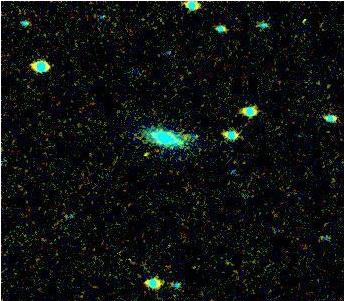star: (128, 136, 158, 166)
